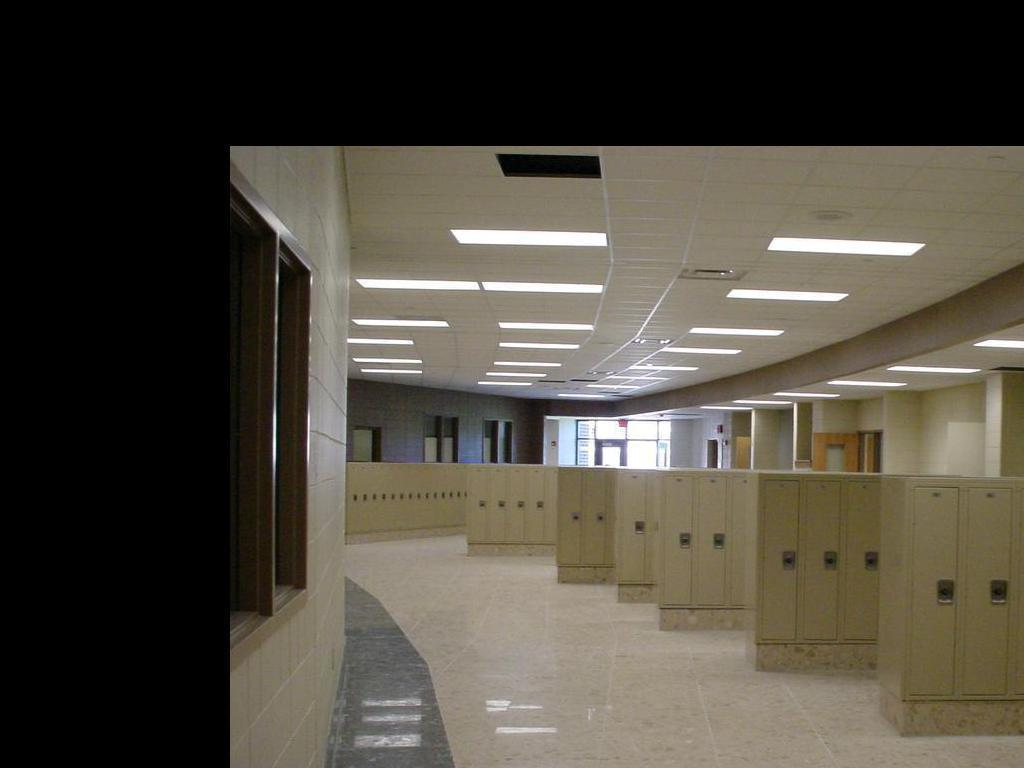Armario: (893, 482, 1024, 732), (756, 479, 875, 672), (660, 475, 747, 627)
